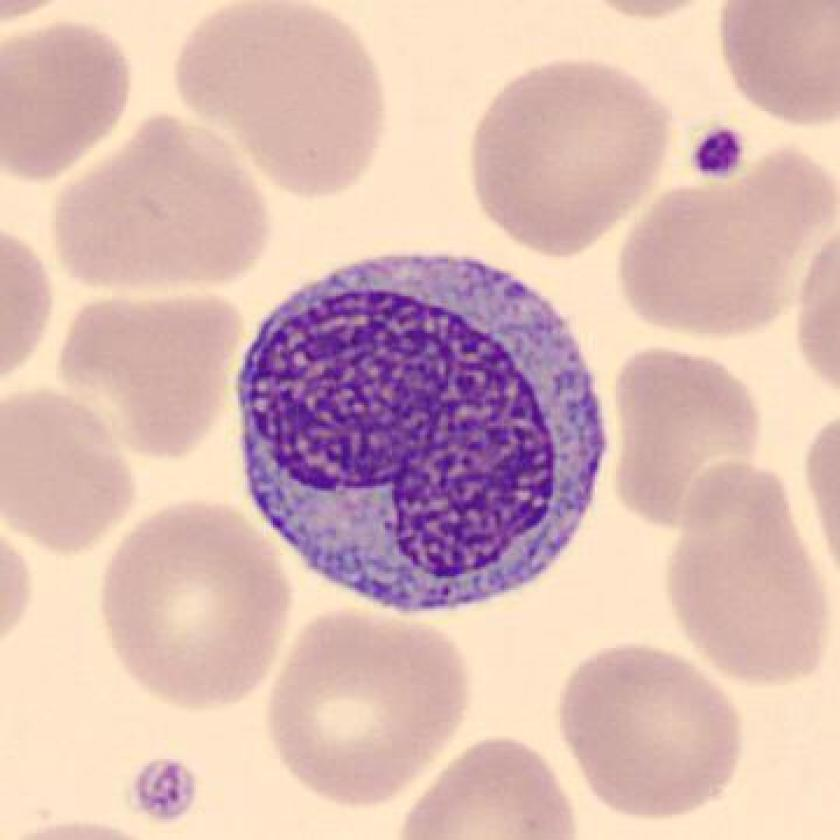monocyte: (216, 237, 626, 626)
